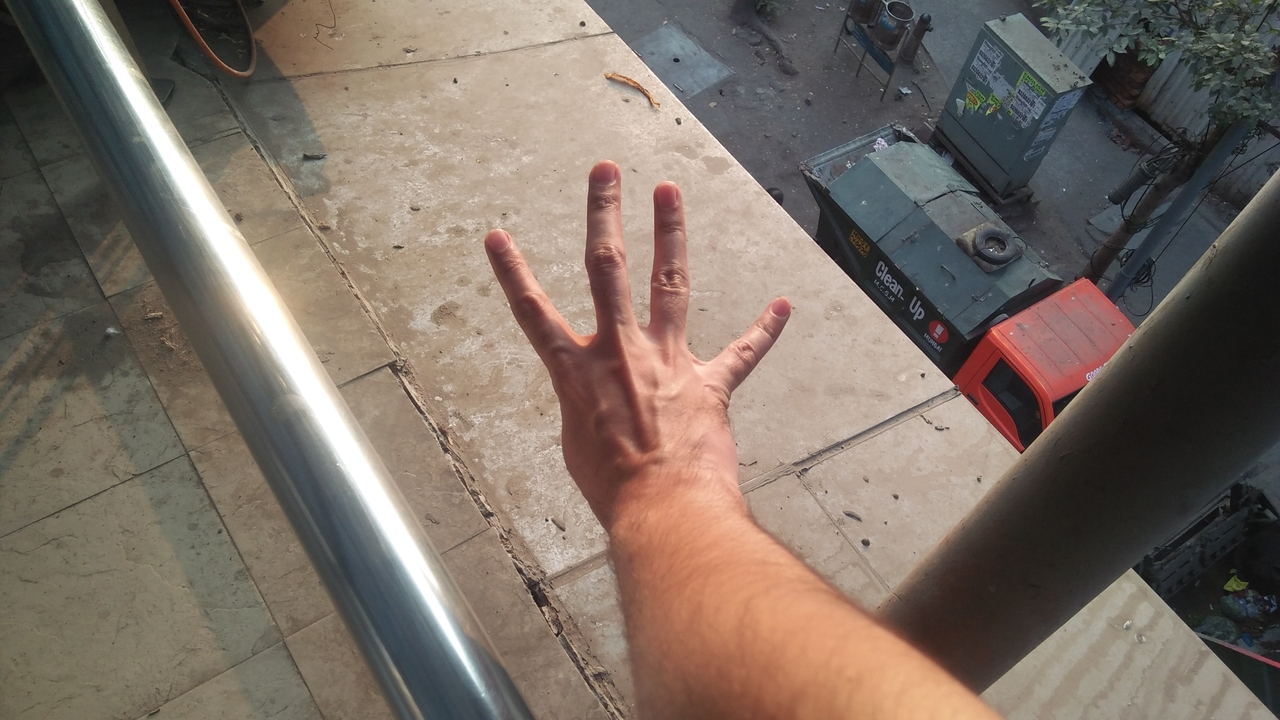fingertip: (470, 212, 522, 268), (750, 282, 804, 334), (644, 164, 692, 214), (580, 144, 628, 192)
